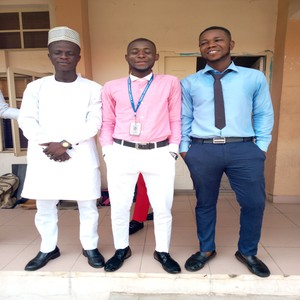Fulokoja_male_student: (181, 27, 269, 274), (105, 39, 179, 271), (32, 29, 101, 269)
